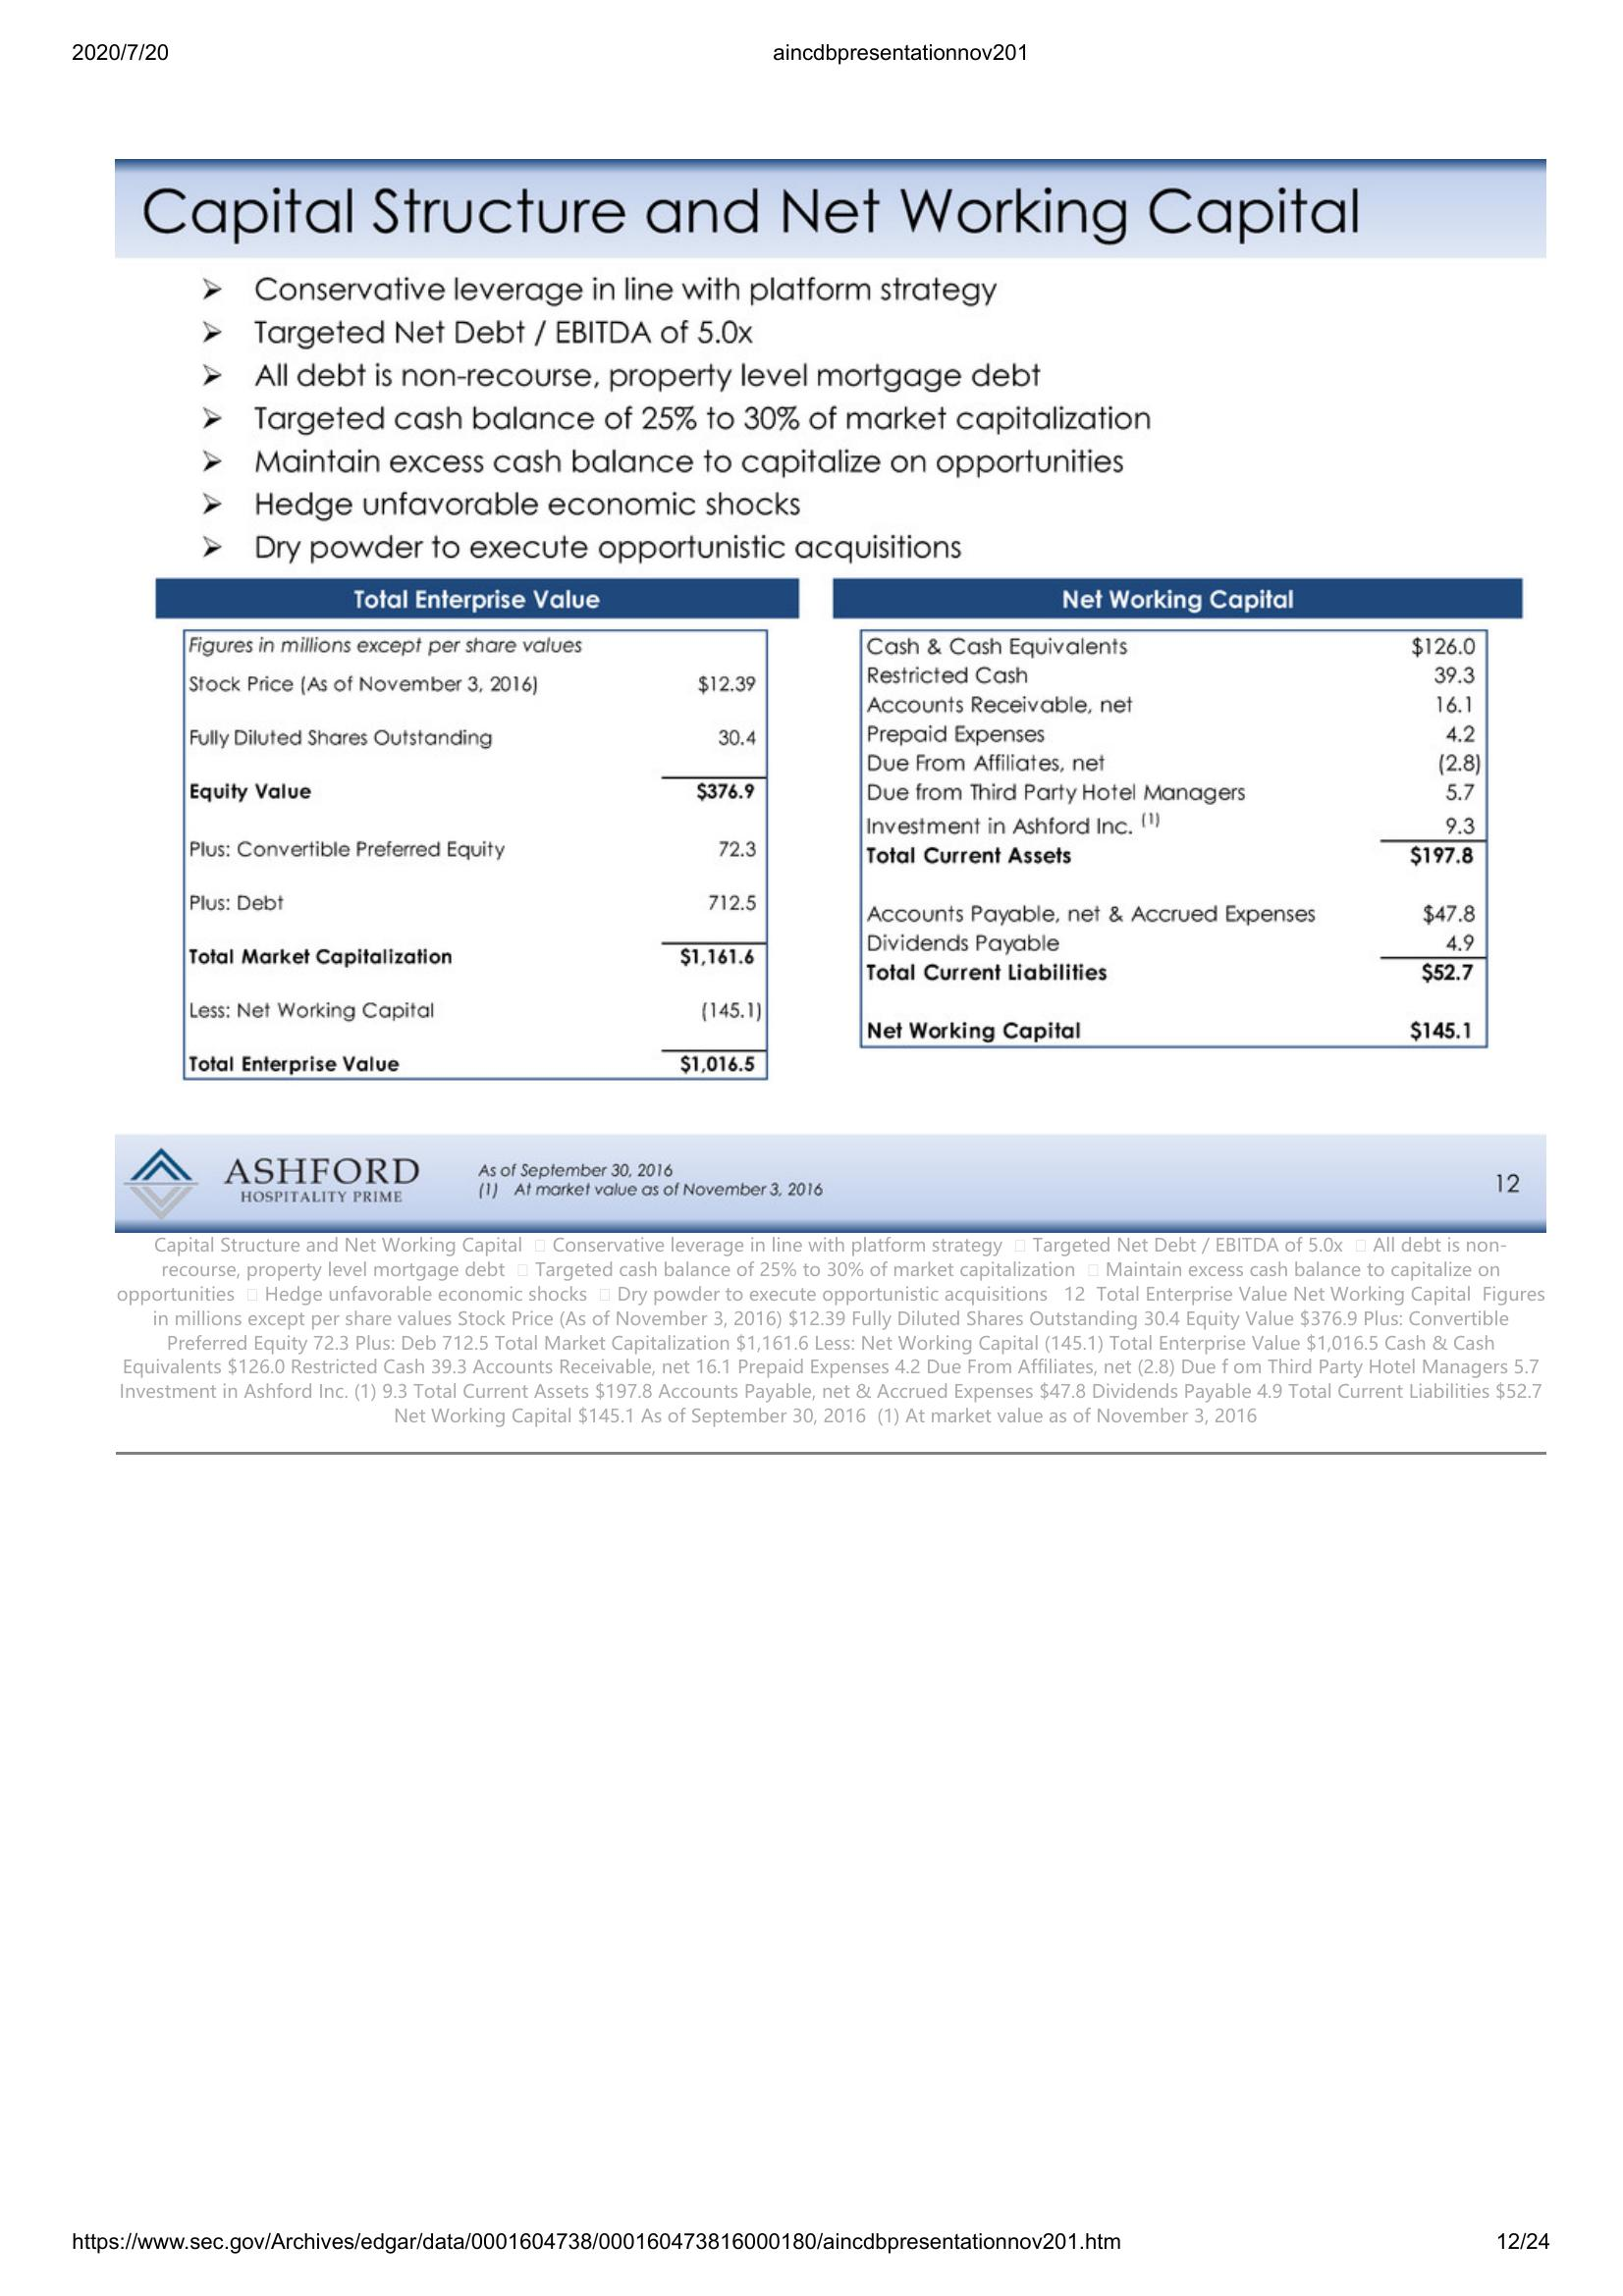table: (174, 627, 782, 1090), (854, 621, 1497, 1057)
